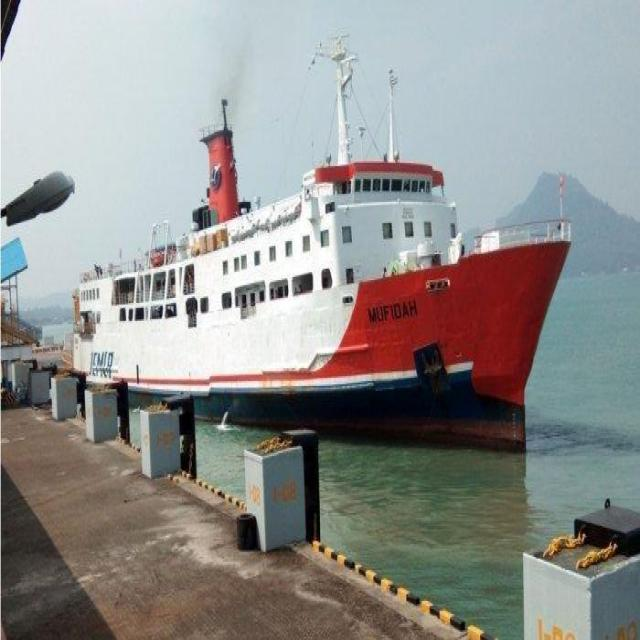PassengerShip: (34, 100, 546, 466)
